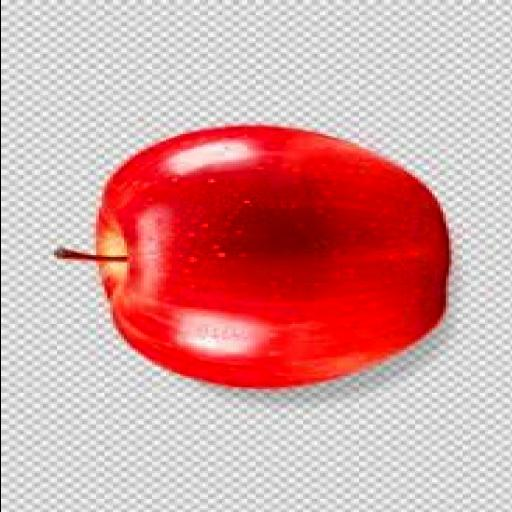apple: (57, 127, 448, 387)
